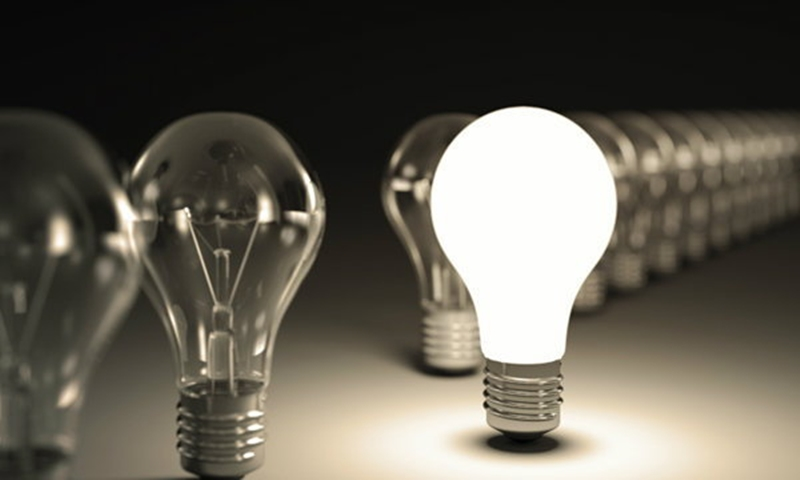Light_bulb: (112, 108, 328, 479), (433, 99, 620, 444)
